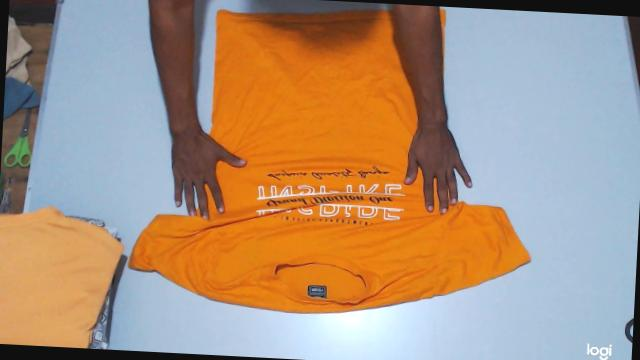new-garment: (128, 10, 529, 312), (439, 8, 446, 50)
